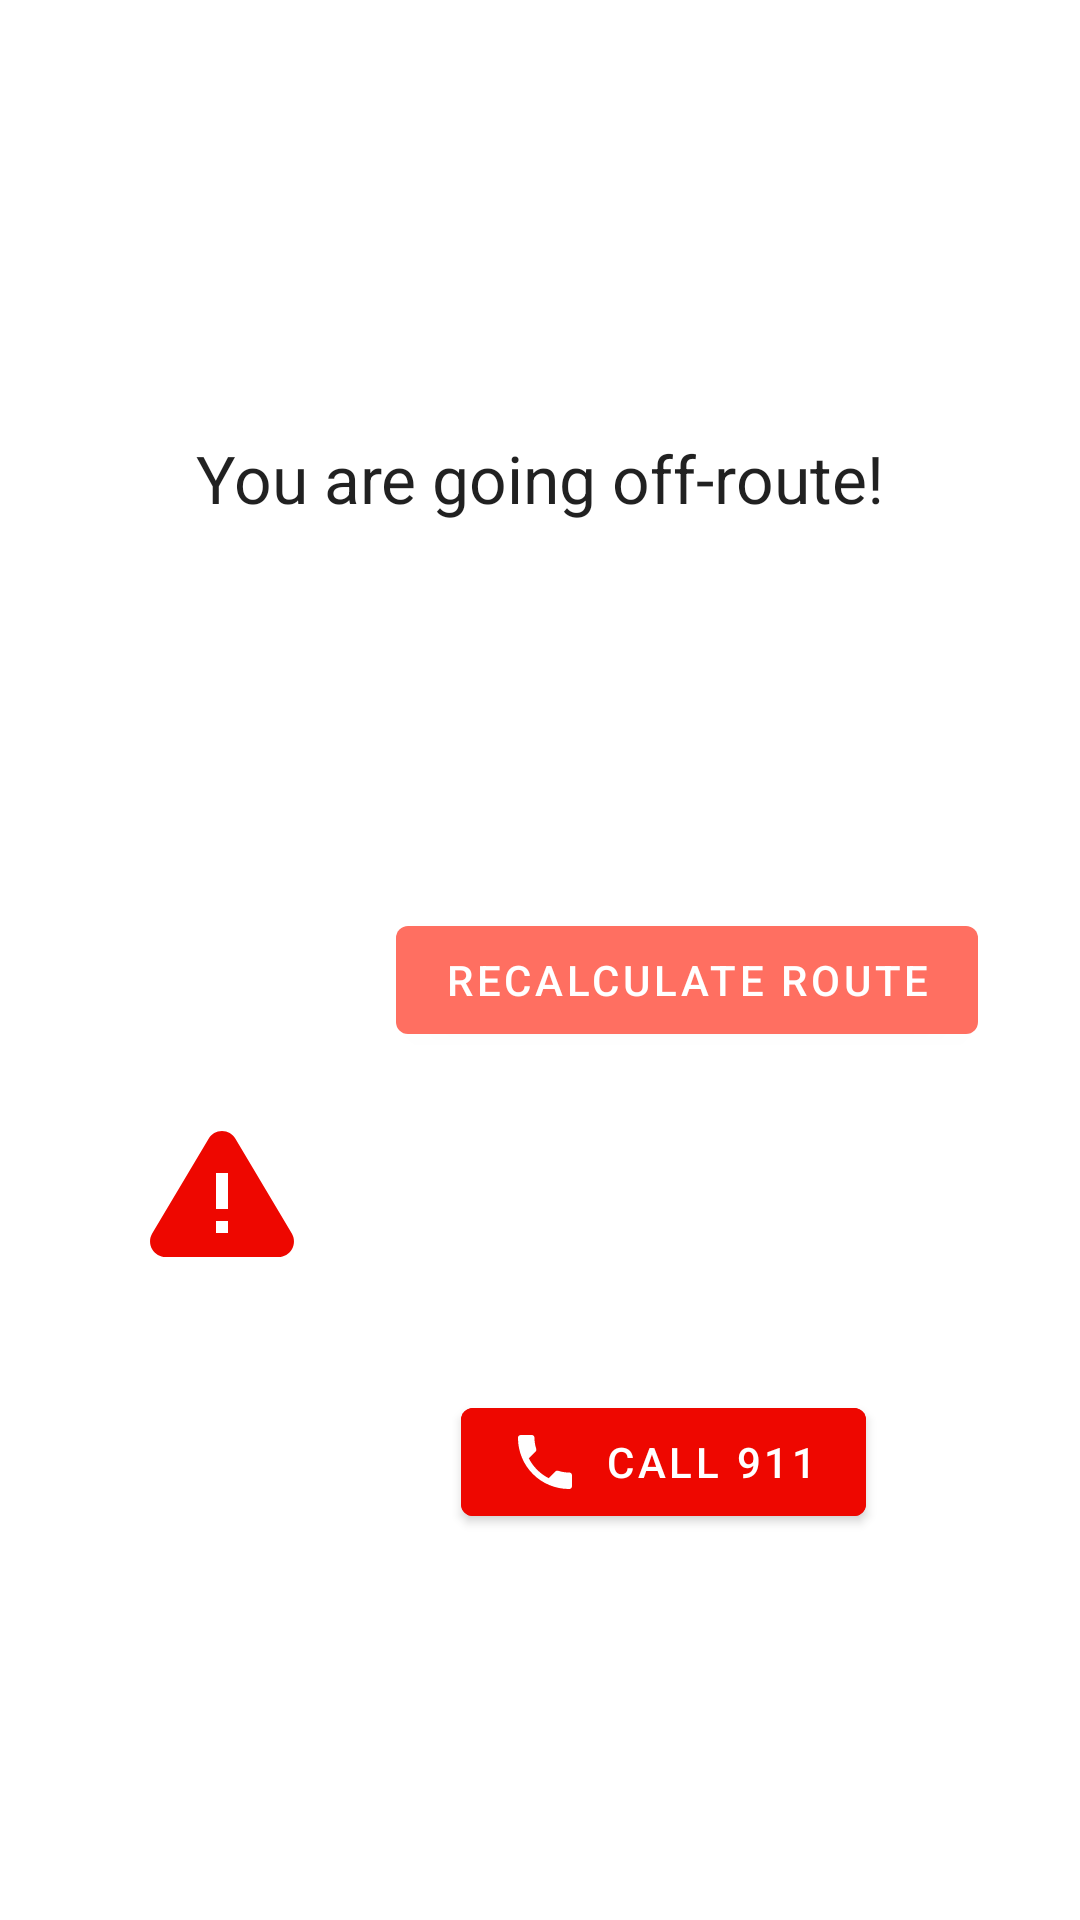

Icons on this 1080w x 1920h Android screen, each with the point to tap as (x=x, y=y):
warning: (x=222, y=1194)
